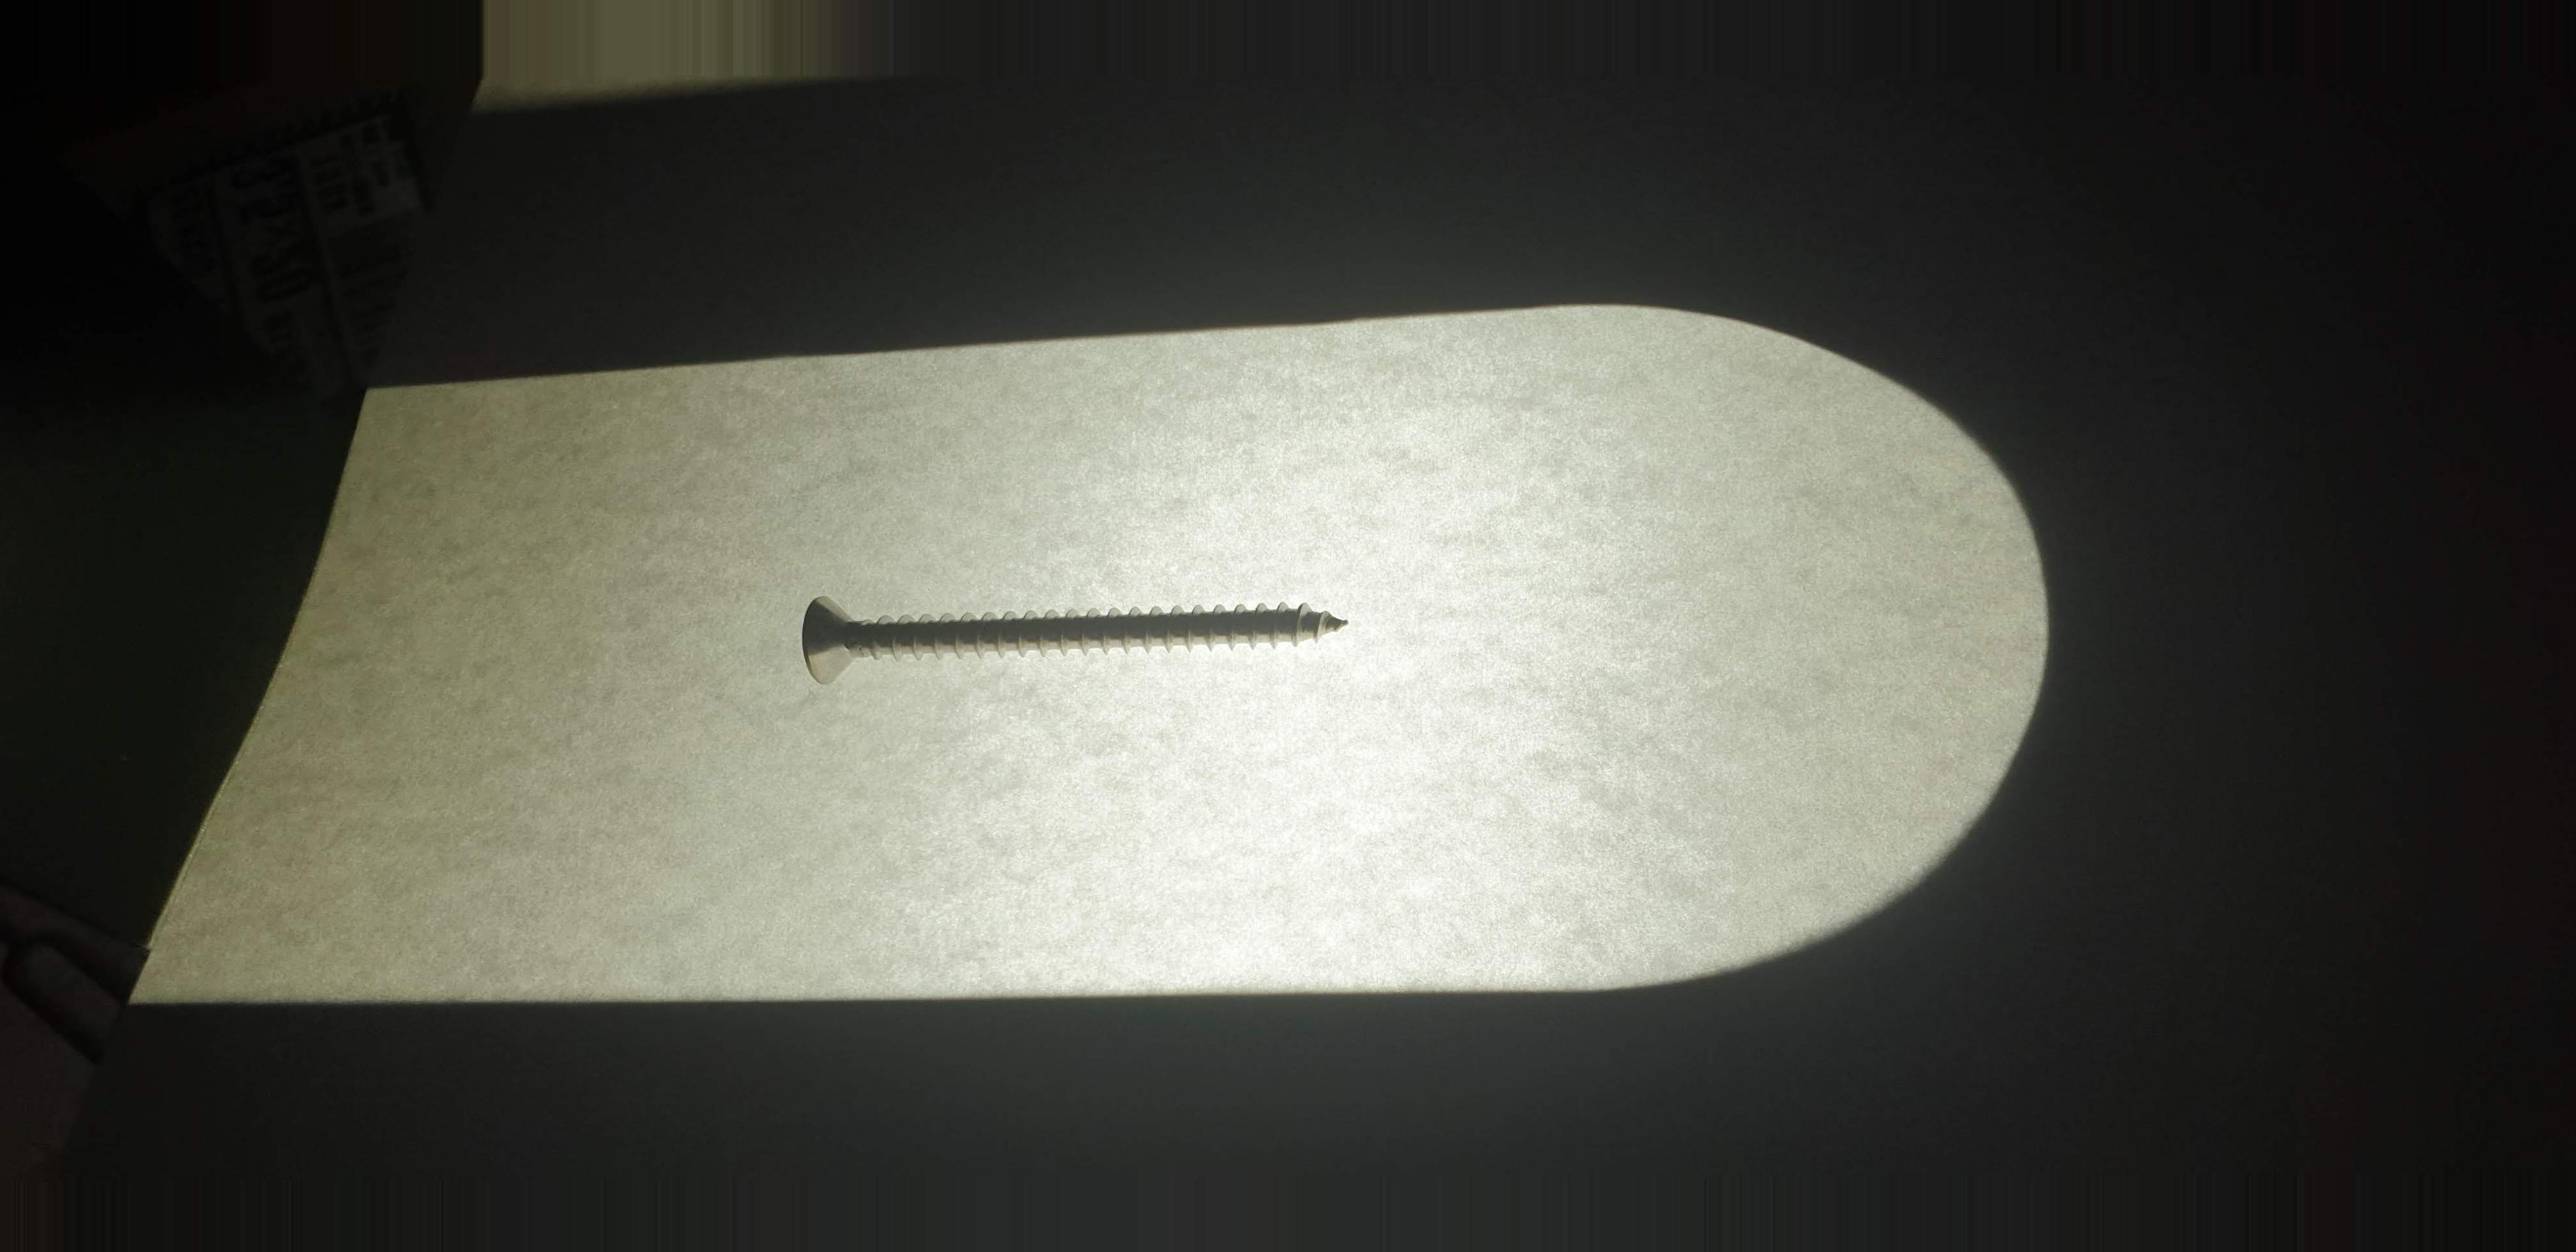S001: (752, 564, 1390, 708)
